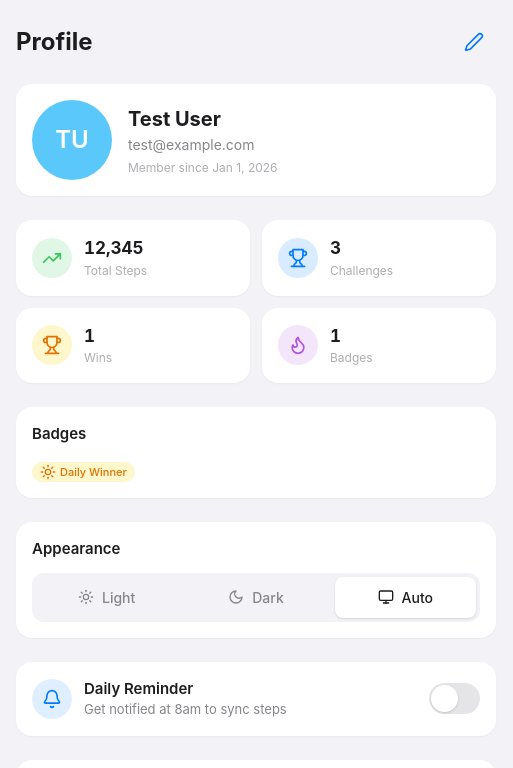
Test case: Profile Daily Reminder › shows error toast when scheduling fails
Click the switch named "daily step reminder" at [454, 698], box [429,683,480,714]
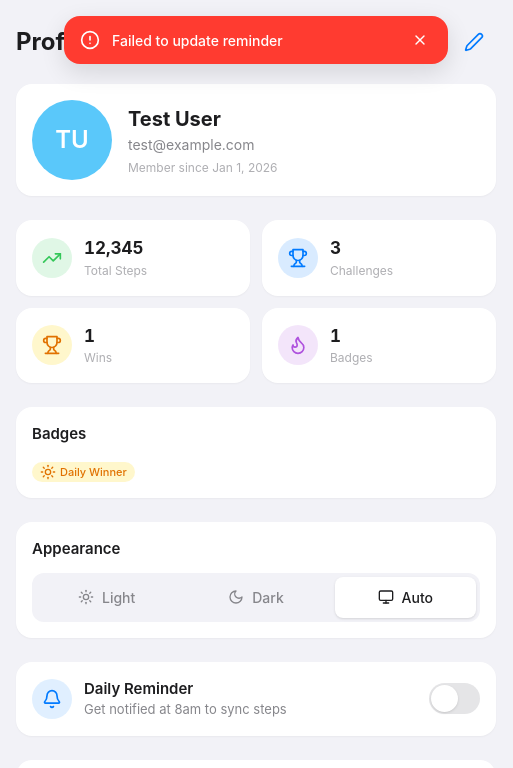
Now the text "Failed to update reminder" is shown, box [112,32,283,48]
